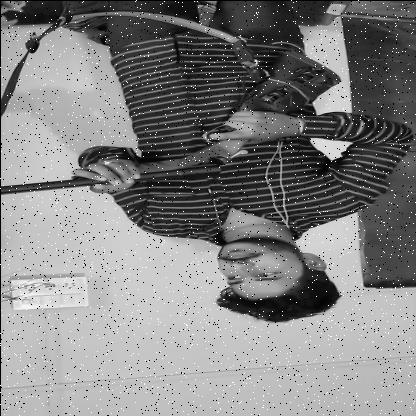rifle: (1, 43, 344, 194)
